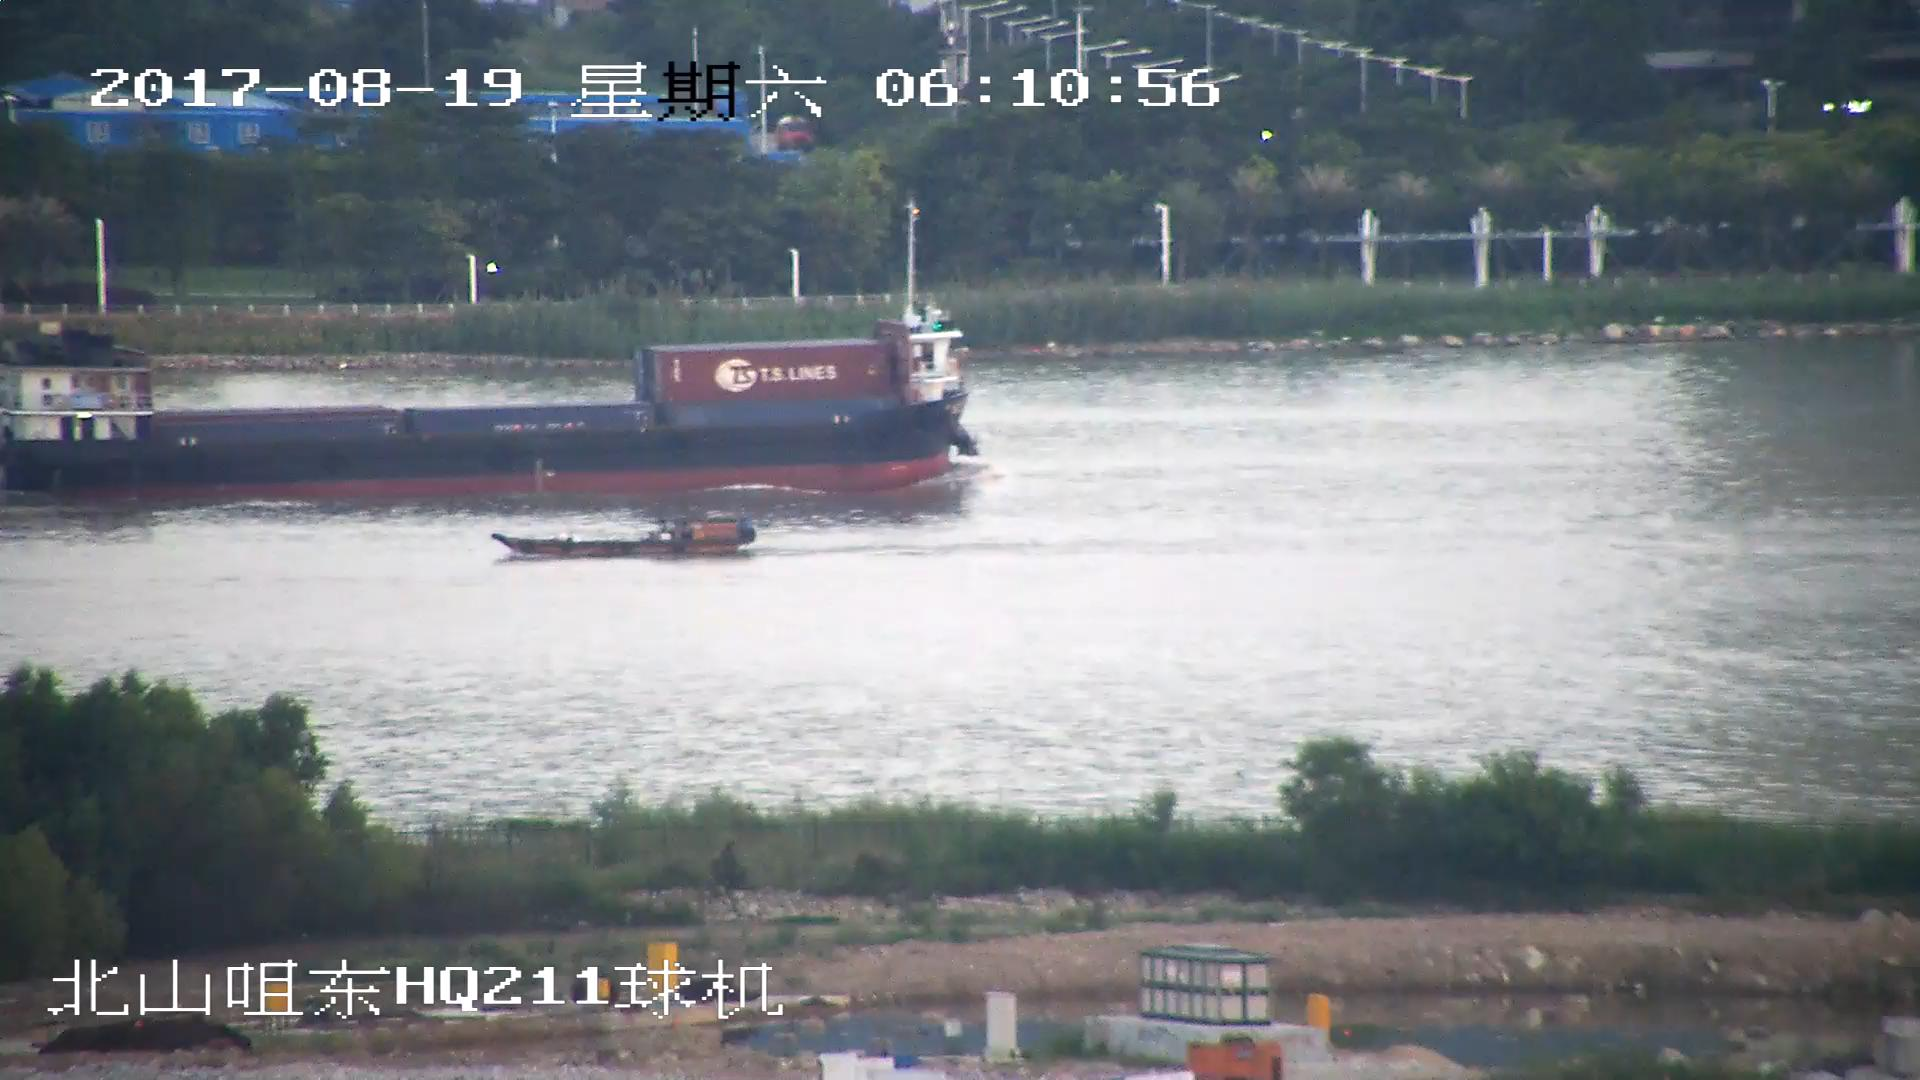container ship: (1, 305, 978, 505)
fishing boat: (491, 522, 757, 563)
